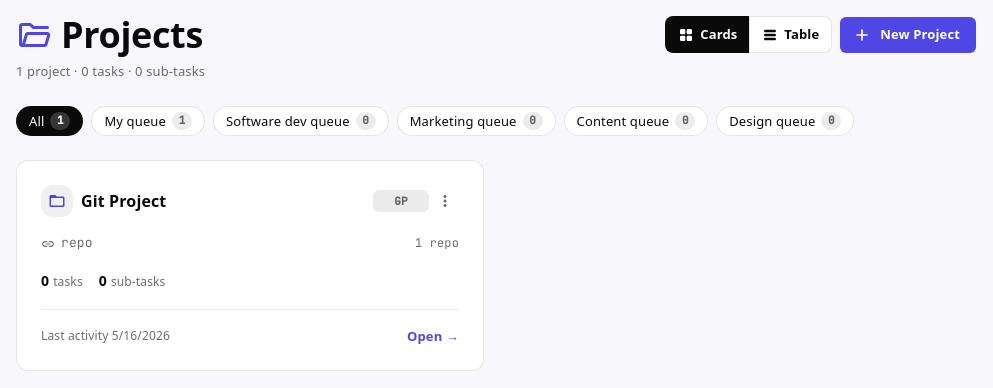
Test case: Projects page › exercises displayIdById and the repo-name mapping on tableRows useMemo (table view)
This screenshot has width=993, height=388.
Expected: the heading "Git Project" is shown, [81,190,166,213]
# Switch to table to exercise tableRows mapping
Click the button "Table" at (791, 34), box [749,16,832,53]
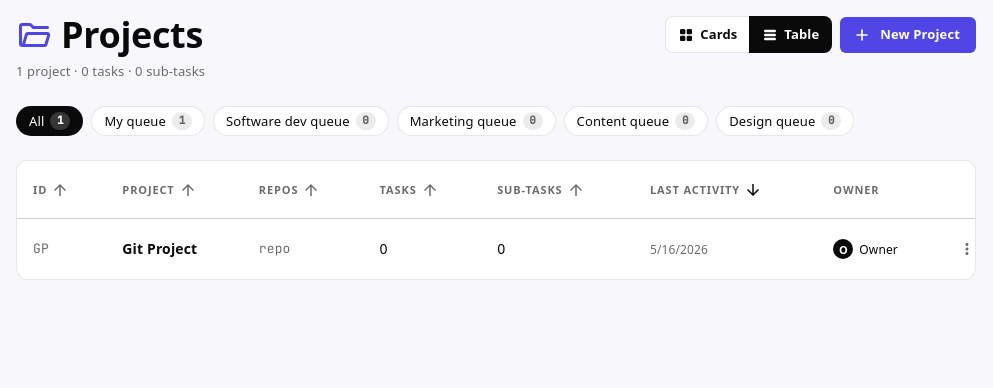
Expected: the text "repo" is shown, [243,219,364,280]
Expected: the link "Git Project" is shown, [122,238,197,261]
